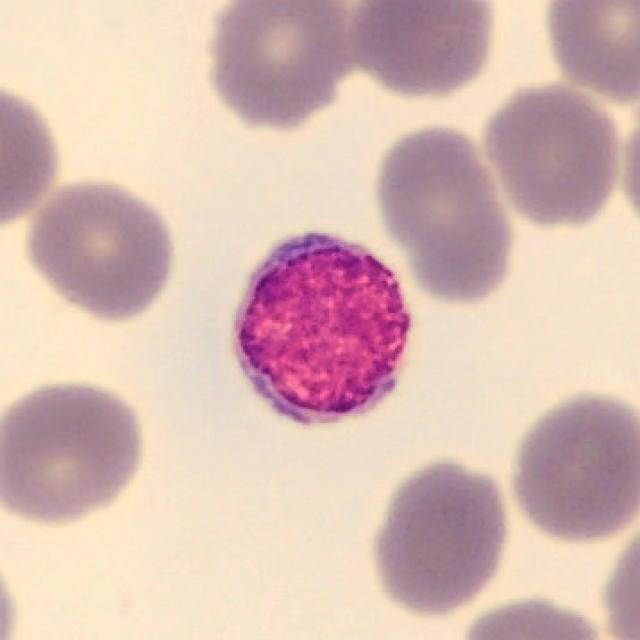Linfocito: (232, 233, 411, 427)
